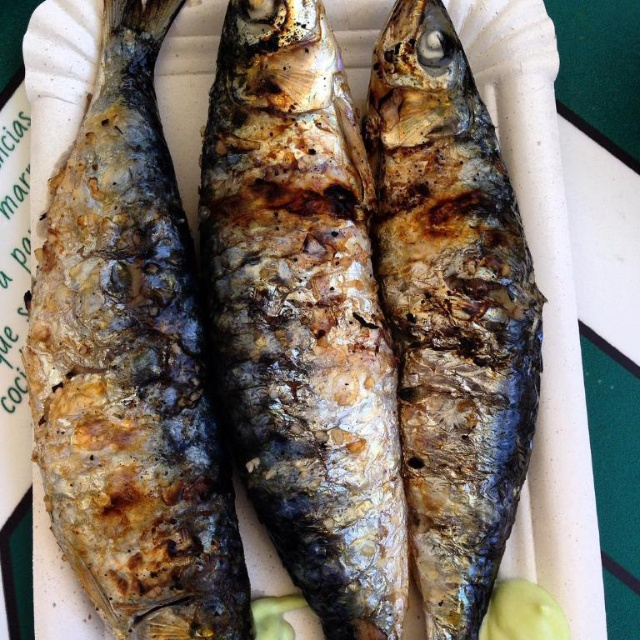Fish: (18, 0, 256, 640), (196, 0, 410, 640), (362, 0, 551, 640)
